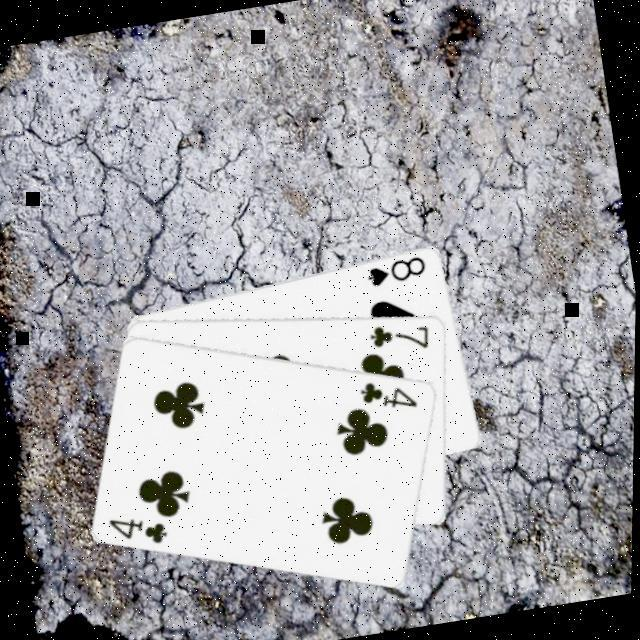4C: (104, 505, 174, 553), (354, 369, 422, 416)
7C: (364, 312, 434, 358)
8S: (360, 250, 430, 288)
